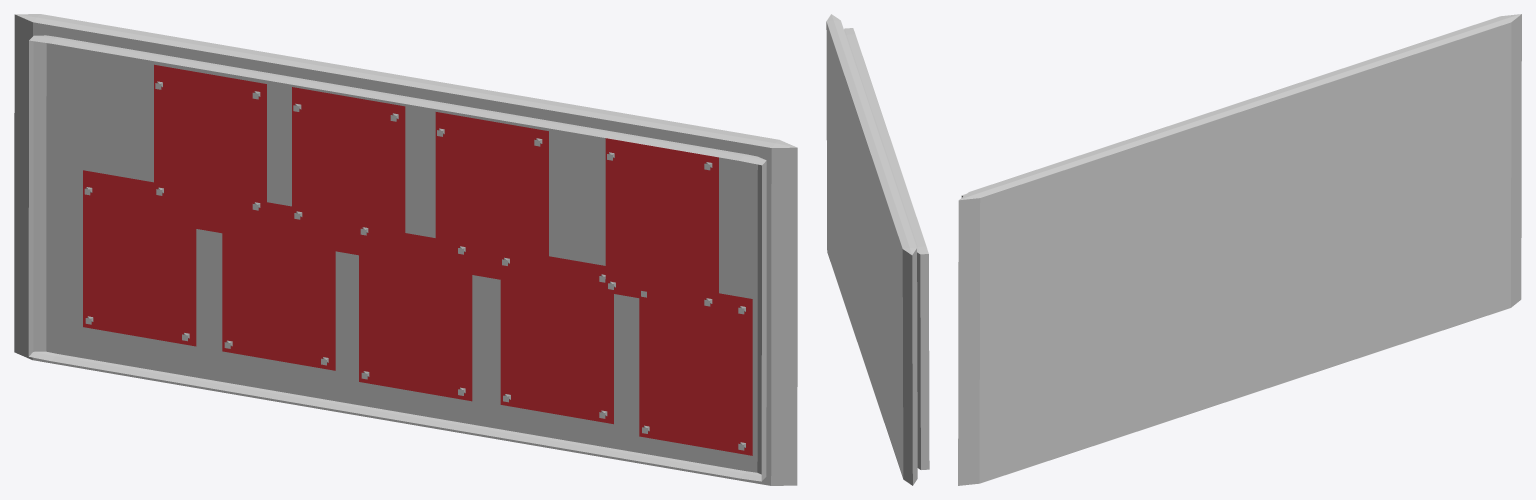
The model's file is Main_bulletin_board.fbx.
3 renders of one model, left to right at view 1: azimuth 30°, elevation 25°; view 2: azimuth 150°, elevation 25°; view 3: azimuth 270°, elevation 25°, orthographic. The views are drawn at different scales.
Parts seen in each view (by area): view 1: Cube.561, Plane.064, Plane.065, Plane.066, Plane.068, Plane.067, Plane.063, Plane.071, Plane.069, Plane.070; view 2: Cube.561; view 3: Cube.561.
Part boxes in pixels (<box>): Cube.561: <box>14,14,797,485</box>; Plane.064: <box>222,194,335,370</box>; Plane.065: <box>359,225,472,401</box>; Plane.066: <box>500,248,613,424</box>; Plane.068: <box>605,138,718,311</box>; Plane.067: <box>639,293,752,455</box>; Plane.063: <box>83,170,196,346</box>; Plane.071: <box>154,64,266,233</box>; Plane.069: <box>435,112,548,279</box>; Plane.070: <box>292,87,405,255</box>; Cube.561: <box>826,14,929,485</box>; Cube.561: <box>958,14,1521,485</box>.
Size of the model in its own units: 253 by 179 by 320.
